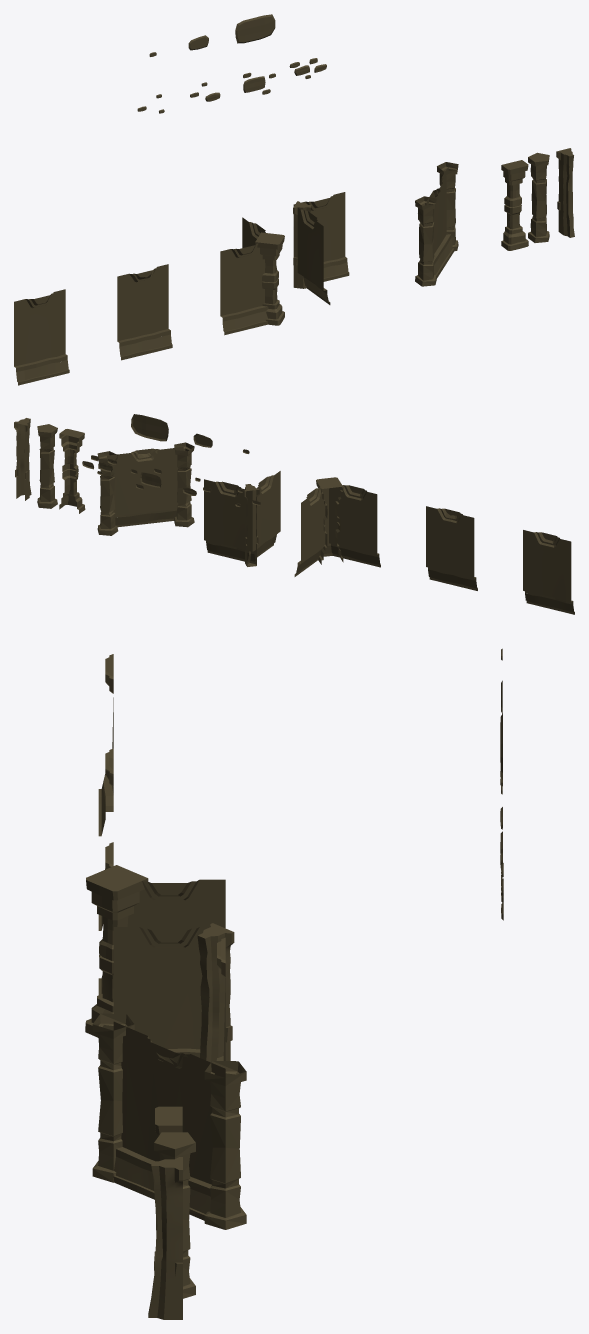
Rendered from strnhold_walls.FBX.
3 views of the same model, one above another, from view 1: azimuth 30°, elevation 25°; view 2: azimuth 150°, elevation 25°; view 3: azimuth 270°, elevation 25° (orthographic). The views are drawn at different scales.
Visible parts, largest first — view 1: Stronghold_wall_COUT, Stronghold_wall_CIN, Stronghold_wall002, Stronghold_wall001, Stronghold_wall_diagonal, Pillar001, Pillar003, Pillar002, Brick003; view 2: Stronghold_wall_diagonal, Stronghold_wall_COUT, Stronghold_wall_CIN, Stronghold_wall002, Stronghold_wall001, Pillar001, Pillar003, Pillar002, Brick003, Brick006, Brick007; view 3: Stronghold_wall_diagonal, Stronghold_wall_CIN, Stronghold_wall_COUT, Pillar002, Pillar003, Stronghold_wall001.
Part boxes in pixels (x1,y1,x2,y2): Stronghold_wall_COUT: (220,217,284,335); Stronghold_wall_CIN: (293,192,349,304); Stronghold_wall002: (117,264,172,360); Stronghold_wall001: (14,289,69,385); Stronghold_wall_diagonal: (415,162,458,286); Pillar001: (501,160,528,250); Pillar003: (528,152,549,242); Pillar002: (556,148,574,237); Brick003: (235,14,275,43); Stronghold_wall_diagonal: (97,442,194,535); Stronghold_wall_COUT: (294,477,380,576); Stronghold_wall_CIN: (204,471,280,566); Stronghold_wall002: (426,506,477,590); Stronghold_wall001: (523,530,574,614); Pillar001: (59,429,85,513); Pillar003: (37,424,57,508); Pillar002: (14,418,31,500); Brick003: (131,414,168,441); Brick006: (130,469,161,489); Brick007: (82,455,117,474); Stronghold_wall_diagonal: (92,1013,246,1229); Stronghold_wall_CIN: (113,923,234,1062); Stronghold_wall_COUT: (85,842,225,1037); Pillar002: (148,1157,182,1319); Pillar003: (154,1132,195,1298); Stronghold_wall001: (98,654,113,836).
Bounding box in the file's own units: 4457 × 1521 × 1496.
